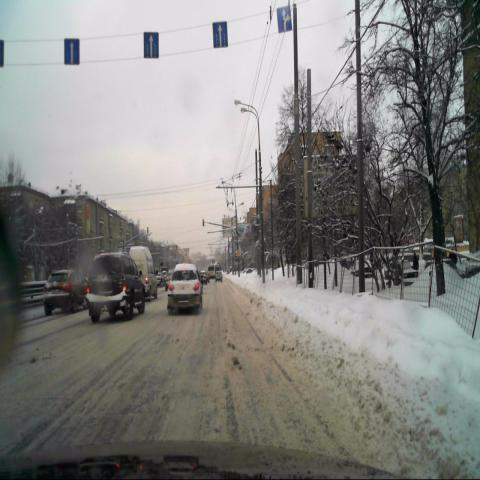5_15_2: (277, 5, 293, 32), (65, 39, 79, 64)
